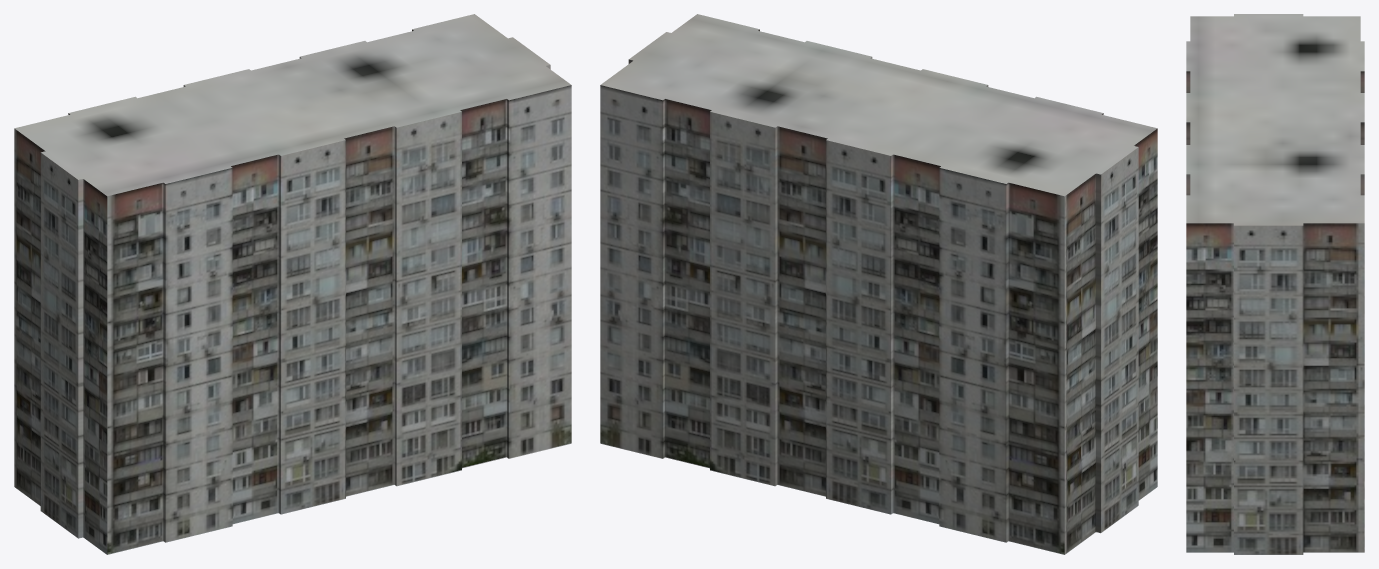
File: building.house_16.glb
The picture shows the model from 3 angles, left to right: view 1: azimuth 30°, elevation 25°; view 2: azimuth 150°, elevation 25°; view 3: azimuth 270°, elevation 25°; orthographic projection. The views are drawn at different scales.
Parts seen in each view (by area): view 1: Cube015; view 2: Cube015; view 3: Cube015.
Boxes of the visible parts, x1,y1,x2,y2 form: Cube015: (14,14,571,554); Cube015: (600,14,1157,554); Cube015: (1186,14,1364,554).
Size of the model in its own units: 28.56 by 20.73 by 10.17.
1 material, 1 textured.
